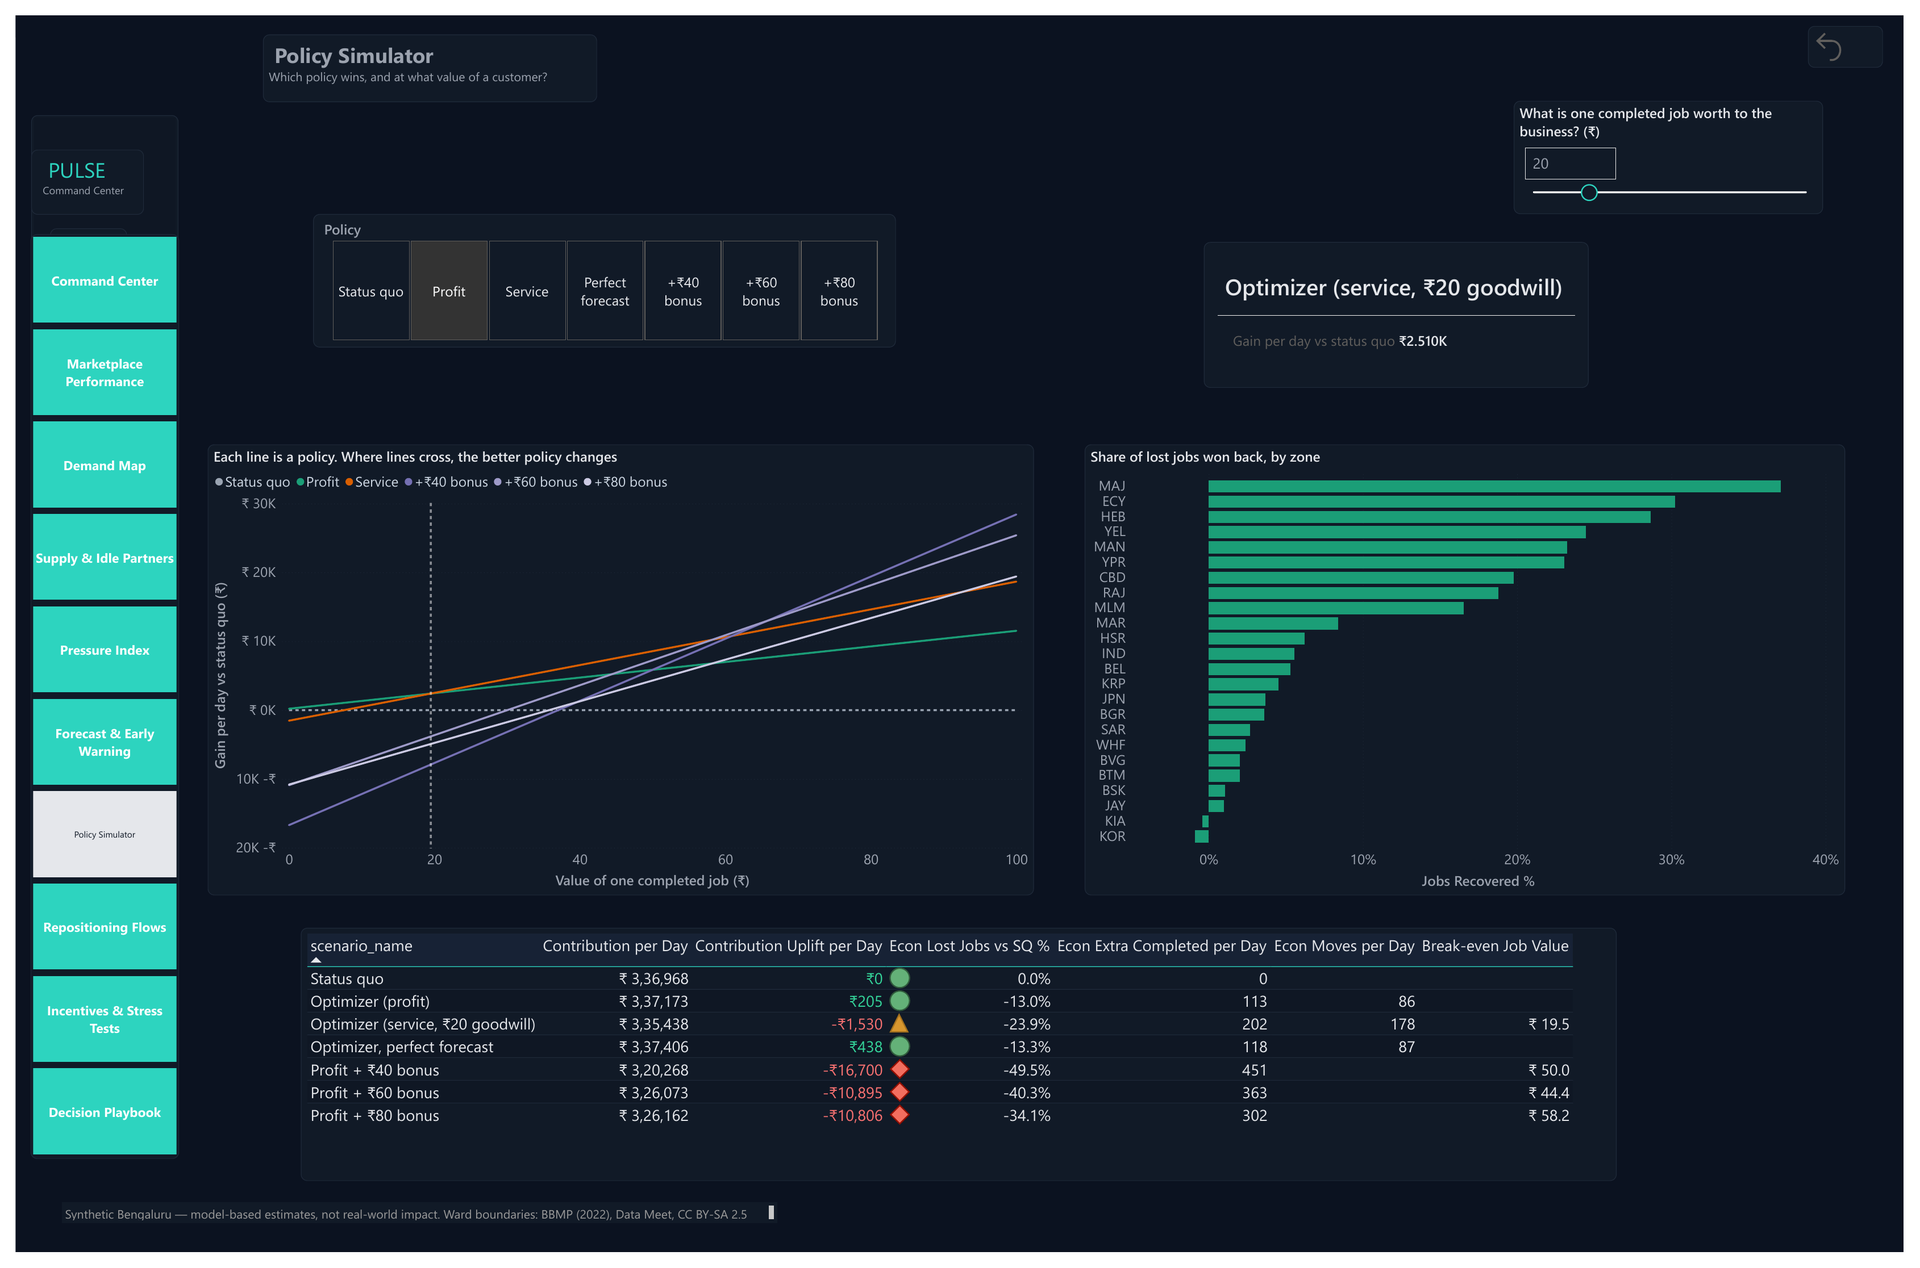

The dashboard page shown, as its layout file describes it:
{"tool":"powerbi","page":{"name":"Policy Simulator","canvas":[2900,1900],"ordinal":6},"visuals":[{"type":"shape","box":[23.6,153.2,226.9,1603],"z":0},{"type":"textbox","box":[23.6,206.3,173.9,100.2],"z":1000},{"type":"pageNavigator","box":[53,327.1,117.9,29.5],"z":2000},{"type":"textbox","box":[380.1,29.5,512.7,103.1],"z":3000},{"type":"textbox","box":[70.7,1824,1099.1,32.4],"z":4000},{"type":"slicer","title":"What is one completed job worth to the business? (₹)","fields":{"Values":["Job Value.Job Value"]},"box":[2300.6,130.6,475.7,174.1],"z":5000},{"type":"cardVisual","fields":{"Data":["_Measures.Best Lever at Job Value"]},"box":[1824.9,348.2,590.7,223.8],"z":6000},{"type":"lineChart","title":"Each line is a policy. Where lines cross, the better policy changes","fields":{"Category":["Job Value.Job Value"],"Series":["Dim_Scenario.scenario_short"],"Y":["_Measures.Actionable Gain per Day"]},"box":[295.3,659.1,1268.4,693.3],"z":7000},{"type":"tableEx","fields":{"Values":["Dim_Scenario.scenario_name","_Measures.Contribution per Day","_Measures.Contribution Uplift per Day","_Measures.Econ Lost Jobs vs SQ %","_Measures.Econ Extra Completed per Day","_Measures.Econ Moves per Day","_Measures.Break-even Job Value"]},"box":[438.4,1402.1,2020.8,388.6],"z":8000},{"type":"slicer","fields":{"Values":["Dim_Scenario.scenario_short"]},"box":[457,304.7,895.4,205.2],"z":9000},{"type":"clusteredBarChart","title":"Share of lost jobs won back, by zone","fields":{"Category":["Dim_Zone.zone_code"],"Y":["_Measures.Jobs Recovered %"]},"box":[1641.5,659.1,1169,693.3],"z":10000},{"type":"actionButton","box":[2753.4,15.9,114.7,63.7],"z":12000},{"type":"pageNavigator","box":[22.9,336.4,228.6,1420.6],"z":13000}]}

Visuals, with their boxes on the page's 2900x1900 design canvas (x1, y1, x2, y2). These are canvas units, not pixel positions in the 1920x1268 screenshot, which may show the page scaled, cropped or inside an application window:
shape: bbox(24, 153, 250, 1756)
textbox: bbox(24, 206, 198, 306)
pageNavigator: bbox(53, 327, 171, 357)
textbox: bbox(380, 30, 893, 133)
textbox: bbox(71, 1824, 1170, 1856)
"What is one completed job worth to the business? (₹)" slicer: bbox(2301, 131, 2776, 305)
cardVisual - _Measures.Best Lever at Job Value: bbox(1825, 348, 2416, 572)
"Each line is a policy. Where lines cross, the better policy changes" lineChart: bbox(295, 659, 1564, 1352)
tableEx - Dim_Scenario.scenario_name x _Measures.Contribution per Day: bbox(438, 1402, 2459, 1791)
slicer - Dim_Scenario.scenario_short: bbox(457, 305, 1352, 510)
"Share of lost jobs won back, by zone" clusteredBarChart: bbox(1642, 659, 2810, 1352)
actionButton: bbox(2753, 16, 2868, 80)
pageNavigator: bbox(23, 336, 252, 1757)
